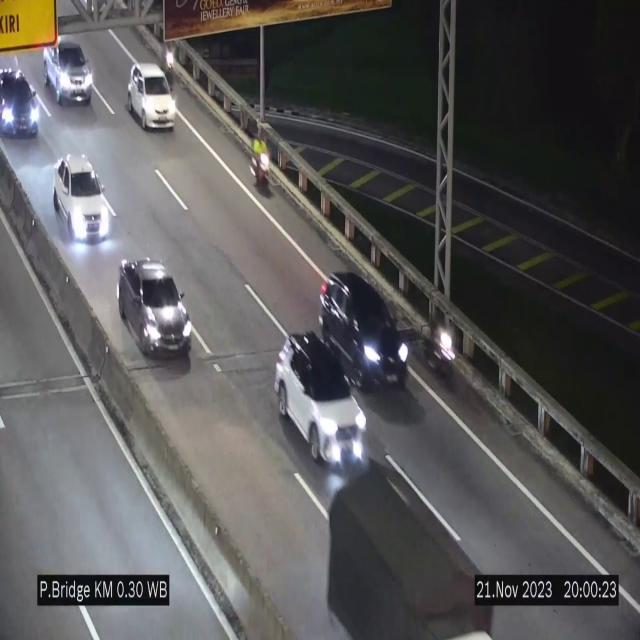Car: (275, 332, 371, 477), (316, 269, 408, 392), (118, 258, 192, 362), (52, 157, 114, 247), (0, 73, 46, 147), (127, 63, 177, 130), (44, 36, 94, 103)
Motorcycle: (429, 302, 457, 387), (250, 130, 274, 197), (163, 40, 177, 90)
Truck: (322, 447, 492, 640)
